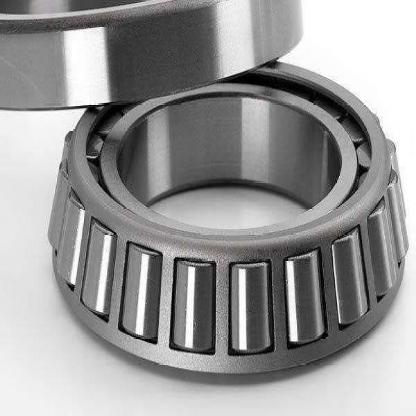FOD: (39, 52, 411, 382)
